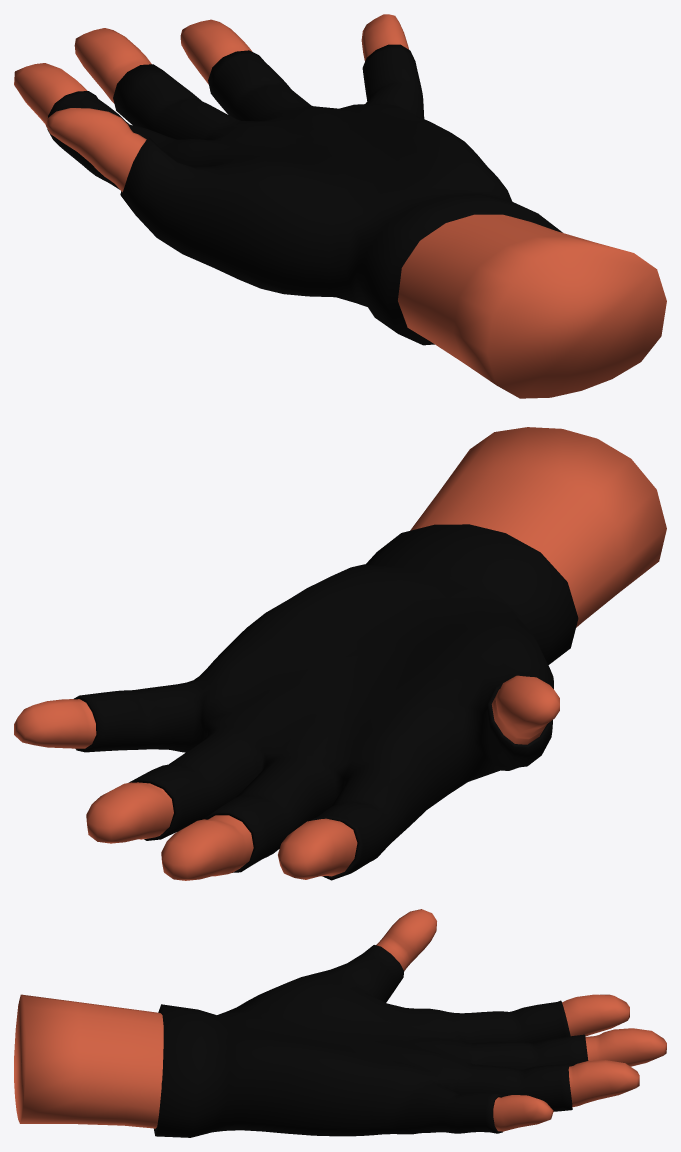
The model's file is left hand.obj.
3 views of the same model, one above another, from view 1: azimuth 30°, elevation 25°; view 2: azimuth 150°, elevation 25°; view 3: azimuth 270°, elevation 25° (orthographic). The views are drawn at different scales.
Parts seen in each view (by area): view 1: left_hand; view 2: left_hand; view 3: left_hand.
Boxes of the visible parts, x1,y1,x2,y2 form: left_hand: [14, 14, 666, 398]; left_hand: [14, 427, 666, 880]; left_hand: [14, 909, 666, 1137].
Bounding box in the file's own units: 14.8 × 5.17 × 26.02.
